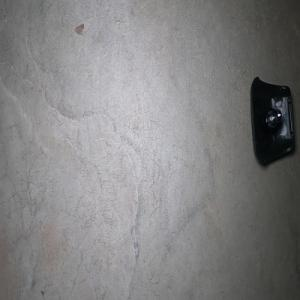LuggagePart: (249, 75, 296, 166)
